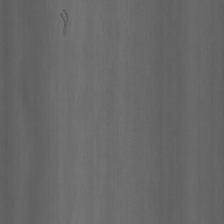water_spot: (57, 6, 74, 37)
